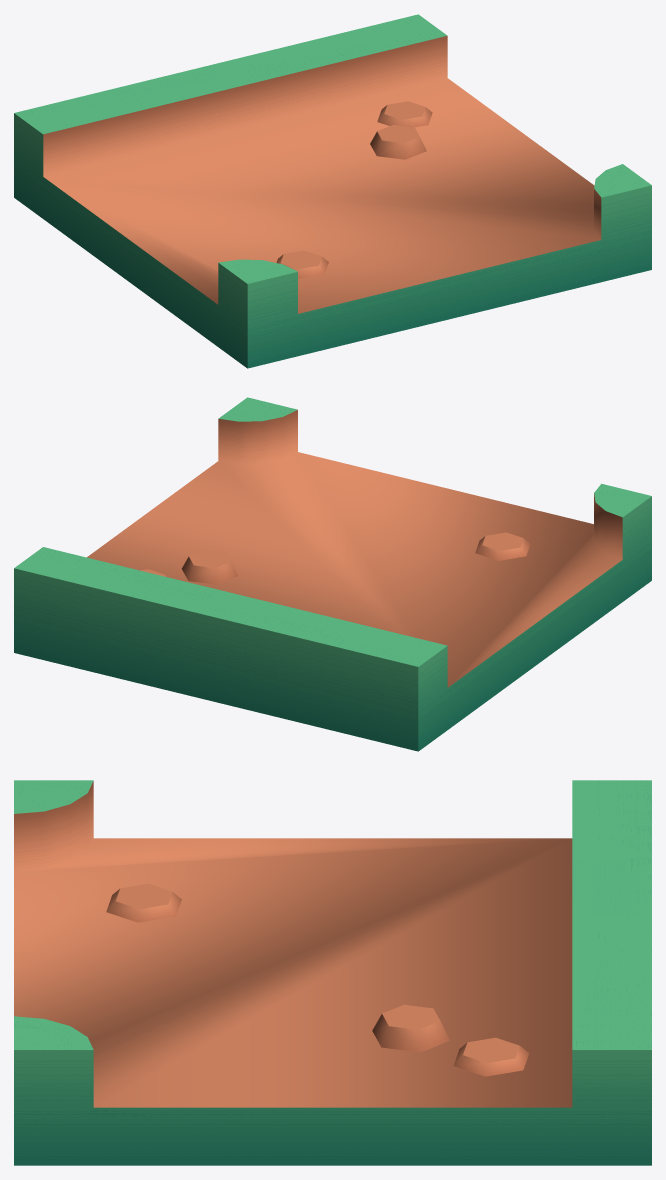
File: tower-defense-kit--tile-split.glb
3 views of the same model, one above another, from view 1: azimuth 30°, elevation 25°; view 2: azimuth 150°, elevation 25°; view 3: azimuth 270°, elevation 25° (orthographic). The views are drawn at different scales.
Visible parts, largest first — view 1: tile-split; view 2: tile-split; view 3: tile-split.
Part boxes in pixels (bbox=[...]): tile-split: bbox=[14, 14, 651, 368]; tile-split: bbox=[14, 397, 651, 751]; tile-split: bbox=[14, 780, 651, 1165].
Bounding box in the file's own units: 1 × 0.2 × 1.
Materials: 1 (1 with a texture image).
